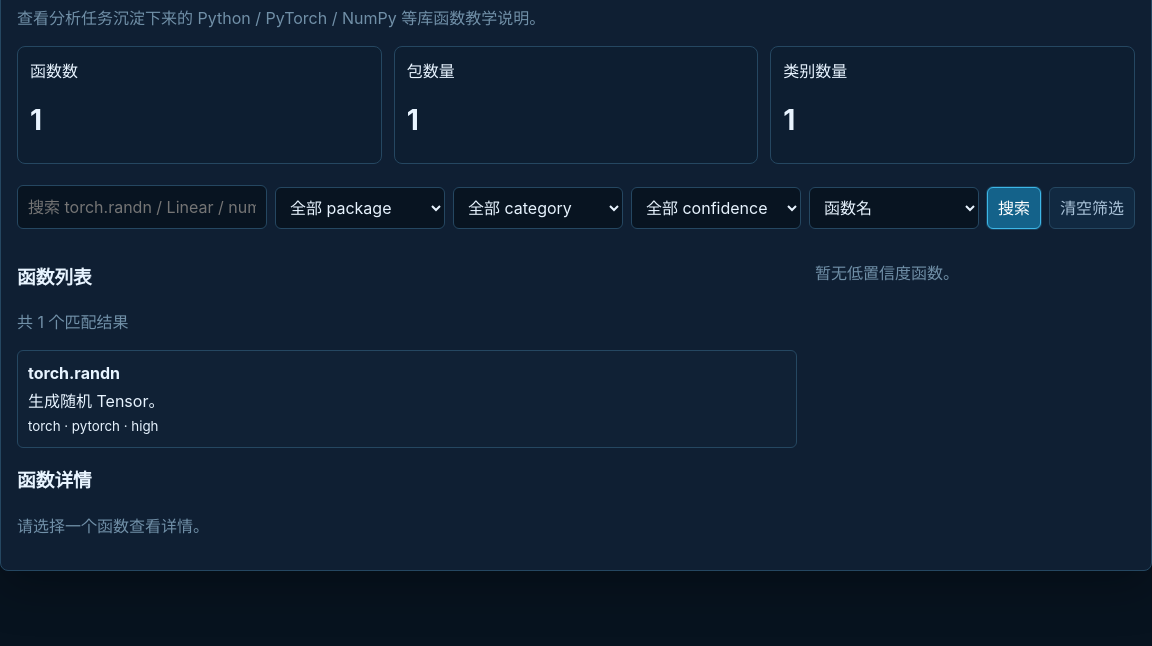
Test case: loads global library list and opens function detail
Expected: the text "函数数" is shown, 30,61 -> 78,81
Expected: the text "暂无低置信度函数。" is shown, 815,263 -> 959,283
Click the text "torch.randn": [74, 373] box 28,363 -> 120,383
(page scrolled)
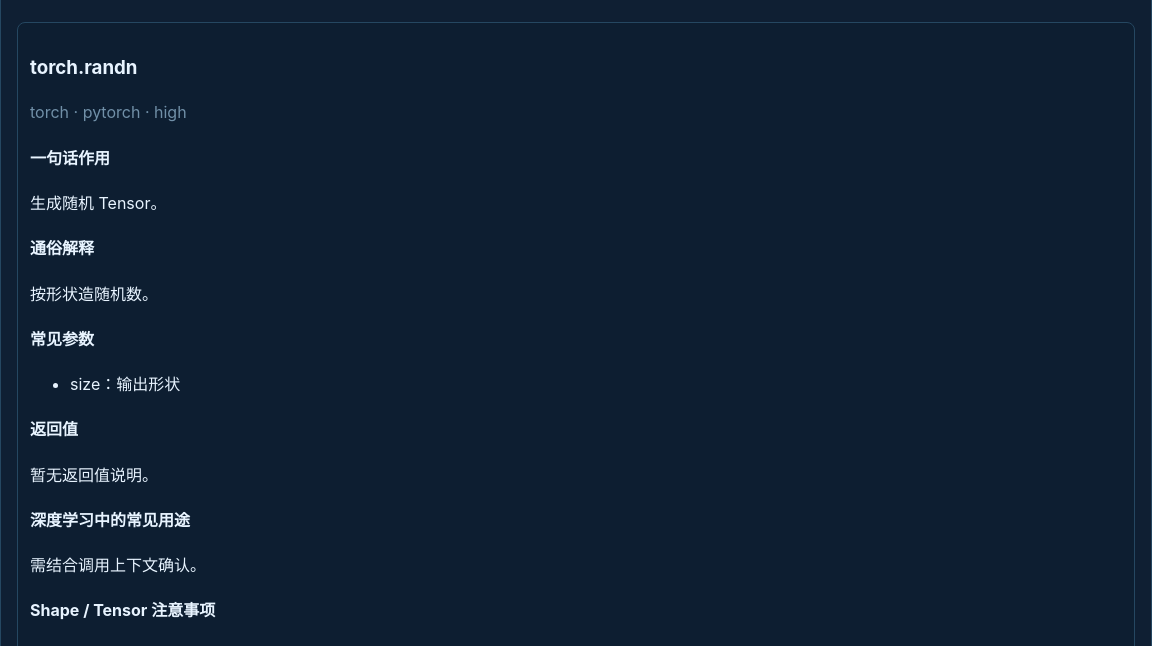
Expected: the text "按形状造随机数。" is shown, 30,284 -> 158,304
